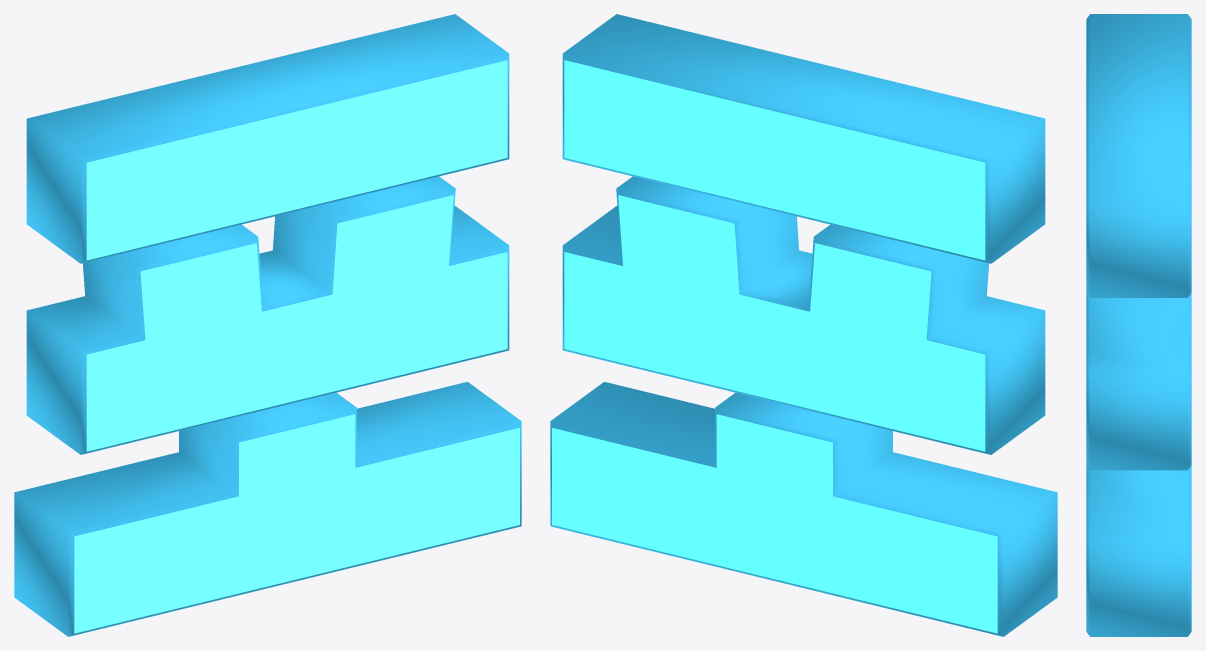
3 views of the same model, side by side, from view 1: azimuth 30°, elevation 25°; view 2: azimuth 150°, elevation 25°; view 3: azimuth 270°, elevation 25° (orthographic). The views are drawn at different scales.
Parts seen in each view (by area): view 1: glyph; view 2: glyph; view 3: glyph.
Part boxes in pixels (x1,y1,x2,y2): glyph: (14, 14, 521, 636); glyph: (550, 14, 1057, 636); glyph: (1086, 14, 1191, 636).
Bounding box in the file's own units: 0.0726 × 0.0728 × 0.0162.
